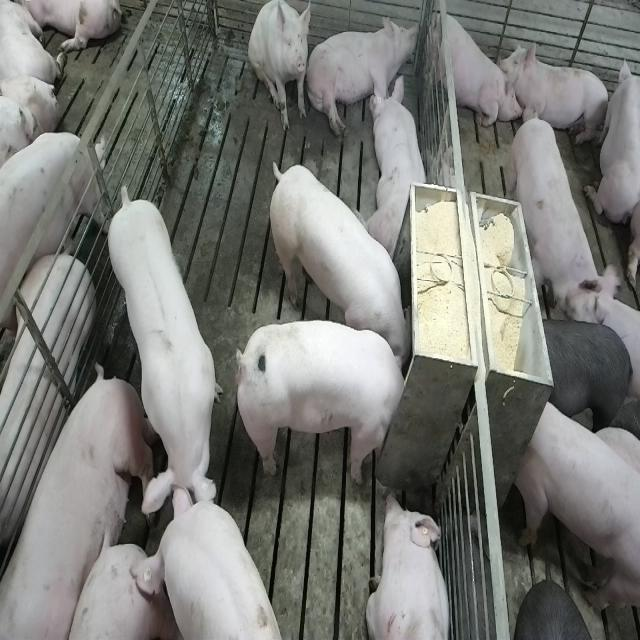Feeding: (263, 160, 412, 368), (241, 318, 415, 486)
Lateral_lying: (4, 367, 165, 640), (305, 12, 418, 139)
Sitting: (425, 4, 514, 136), (249, 2, 311, 133)
Standing: (104, 188, 220, 540), (514, 395, 638, 620), (0, 124, 106, 353), (511, 106, 609, 320), (150, 492, 286, 640), (542, 315, 636, 441)
Sternal_lying: (366, 489, 453, 640), (368, 72, 431, 259), (506, 39, 612, 150), (584, 54, 637, 228)
